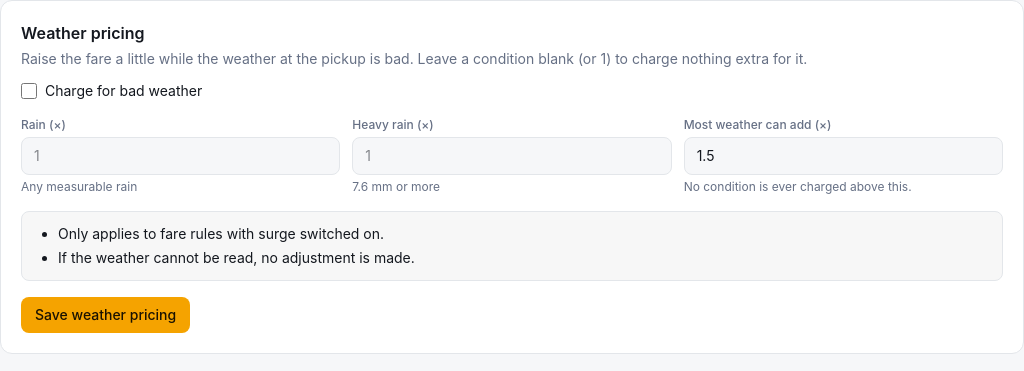
weather pricing settings › a multiplier outside 1 to 2, or with too many decimals, is refused and nothing is sent
In the field labelled "Heavy rain (×)": (512, 156) [352,137,672,175], type "2.5"
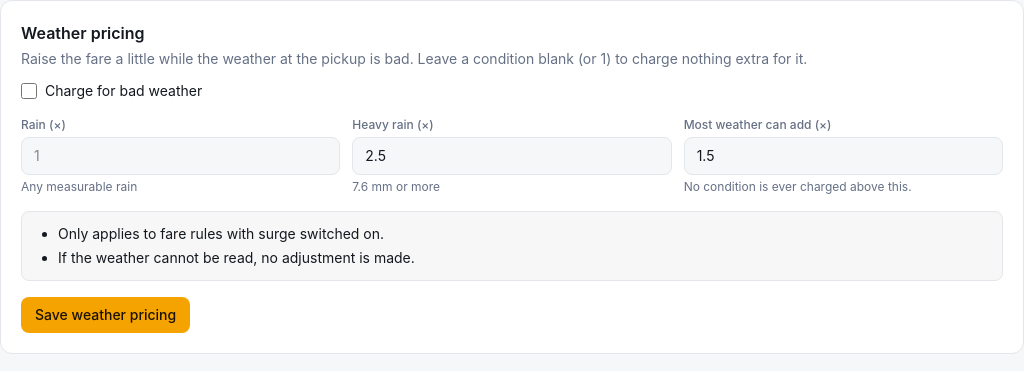
In the field labelled "Rain (×)": (181, 156) [21,137,340,175], type "1.234"
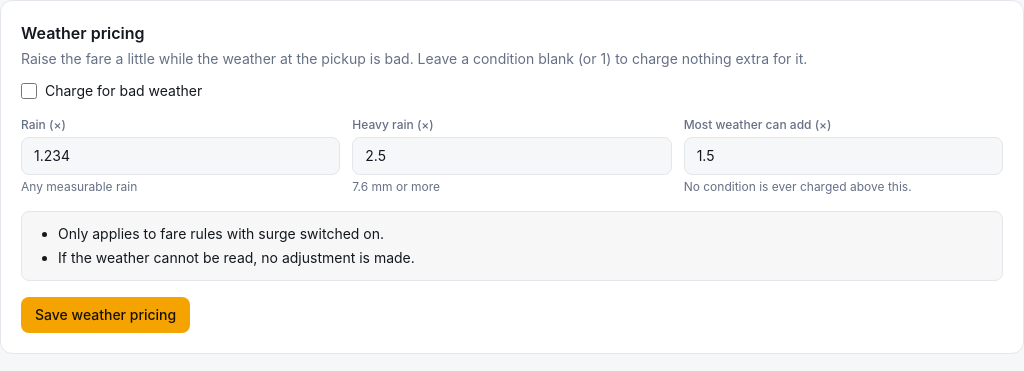
Click the button "Save weather pricing": (106, 315) [21,297,190,333]
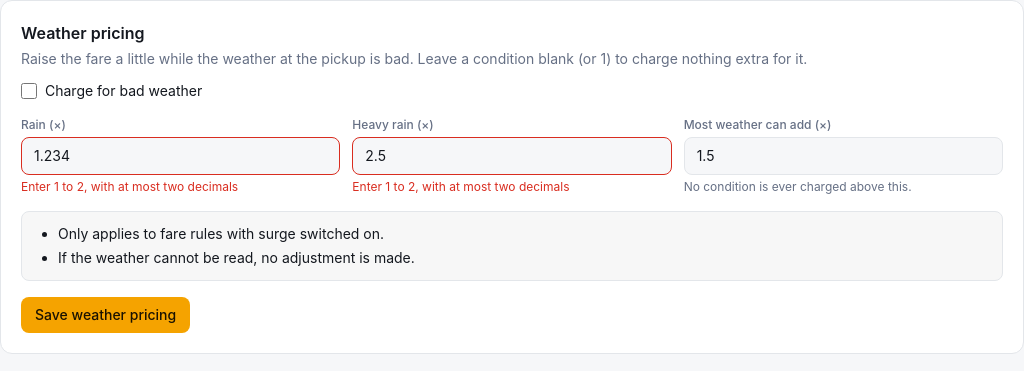
Expected: the text "Enter 1 to 2, with at most two decimals" is shown 2 times, [21,179,238,194]; [352,179,570,194]
